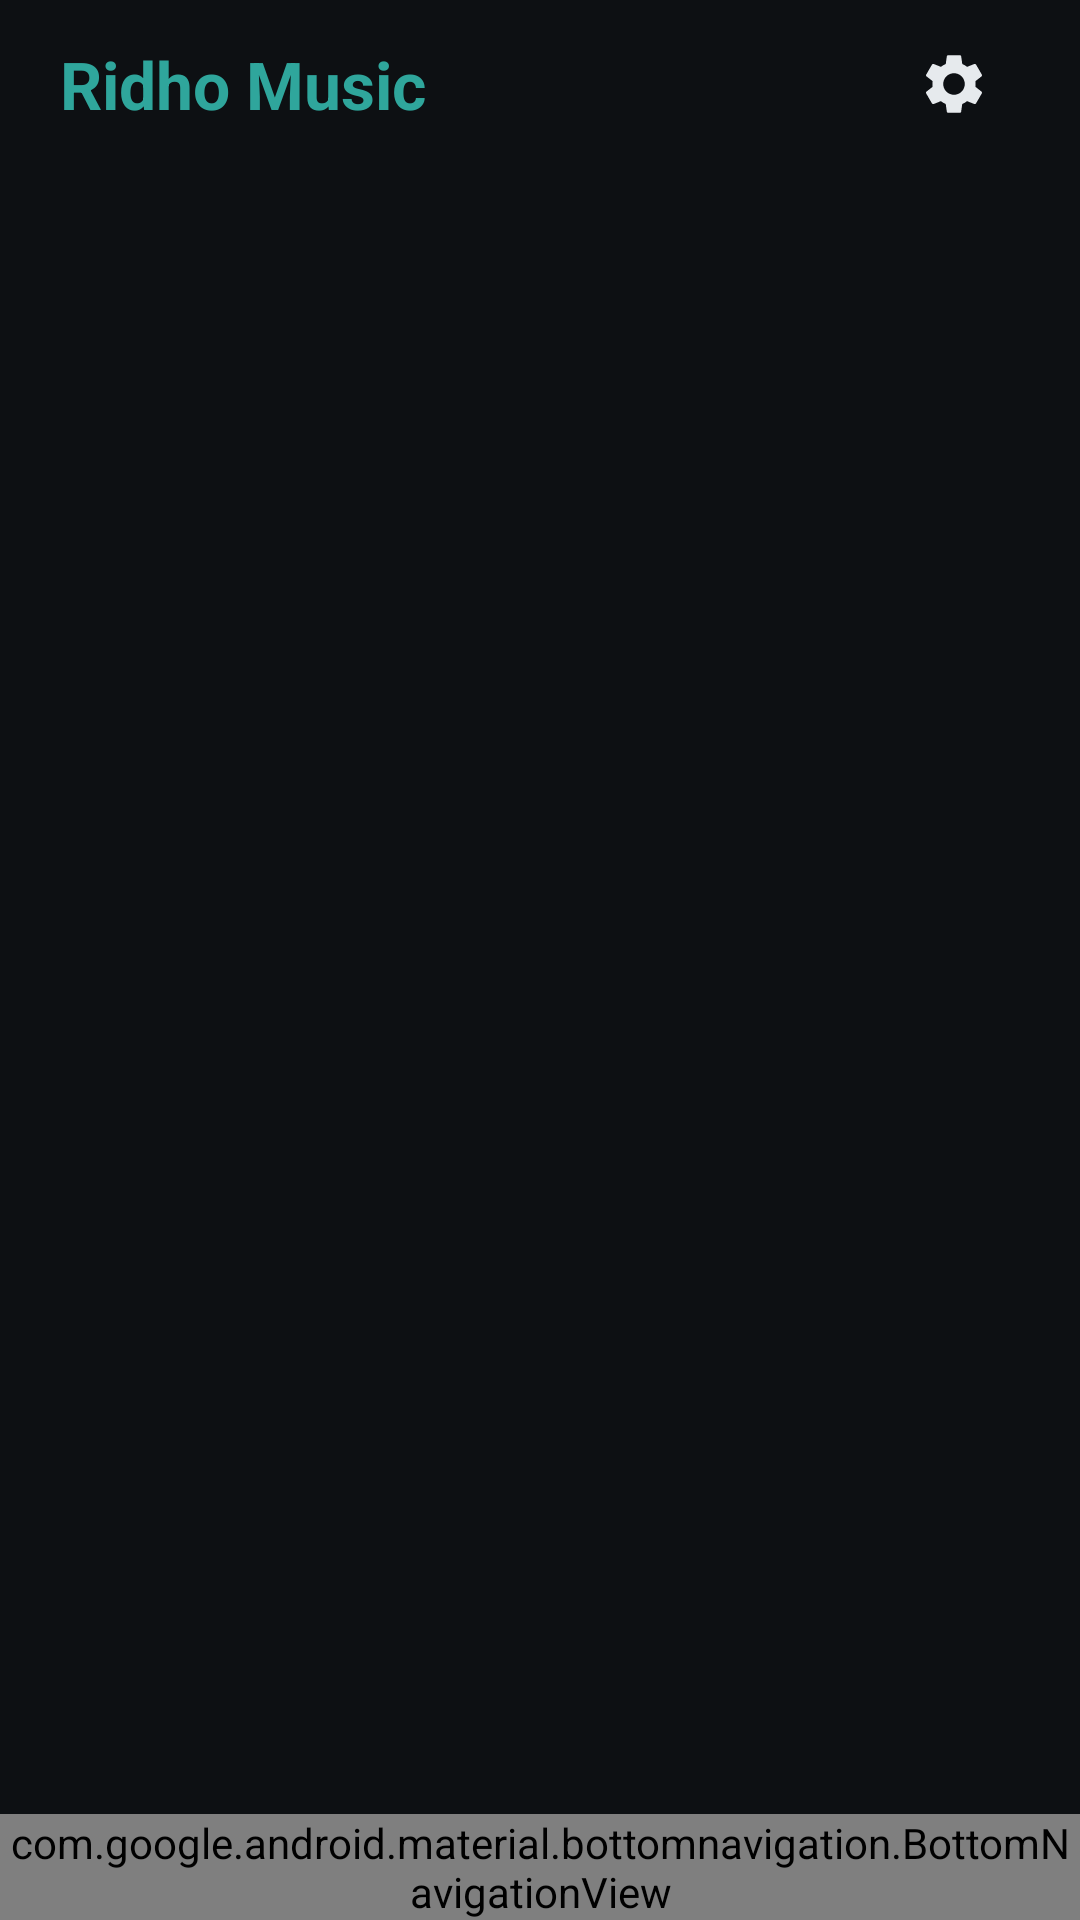

Screen size 1080*1920. Icon name, then its center in pixels as (x=x, y=y):
Settings: (x=954, y=84)
